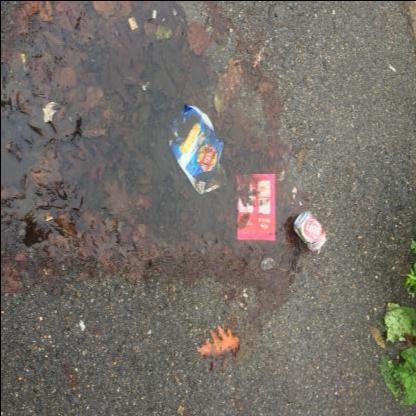Can: (293, 210, 326, 251)
Plastic bag - wrapper: (167, 103, 227, 194), (235, 173, 276, 240)
